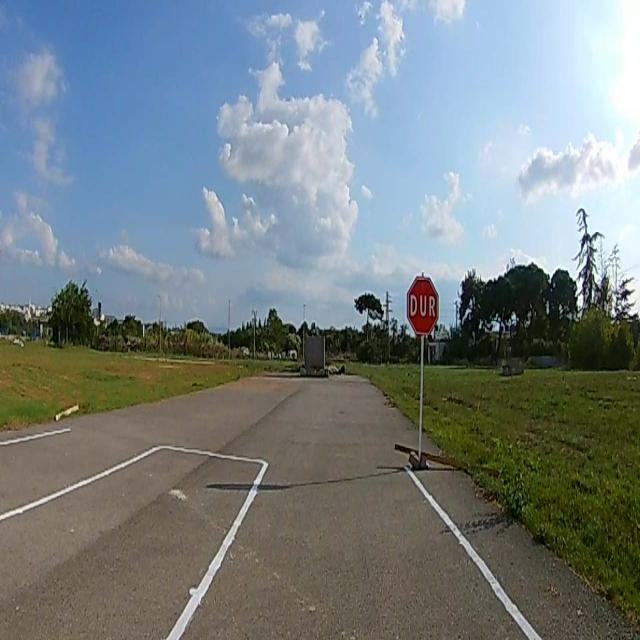dur: (406, 277, 438, 335)
